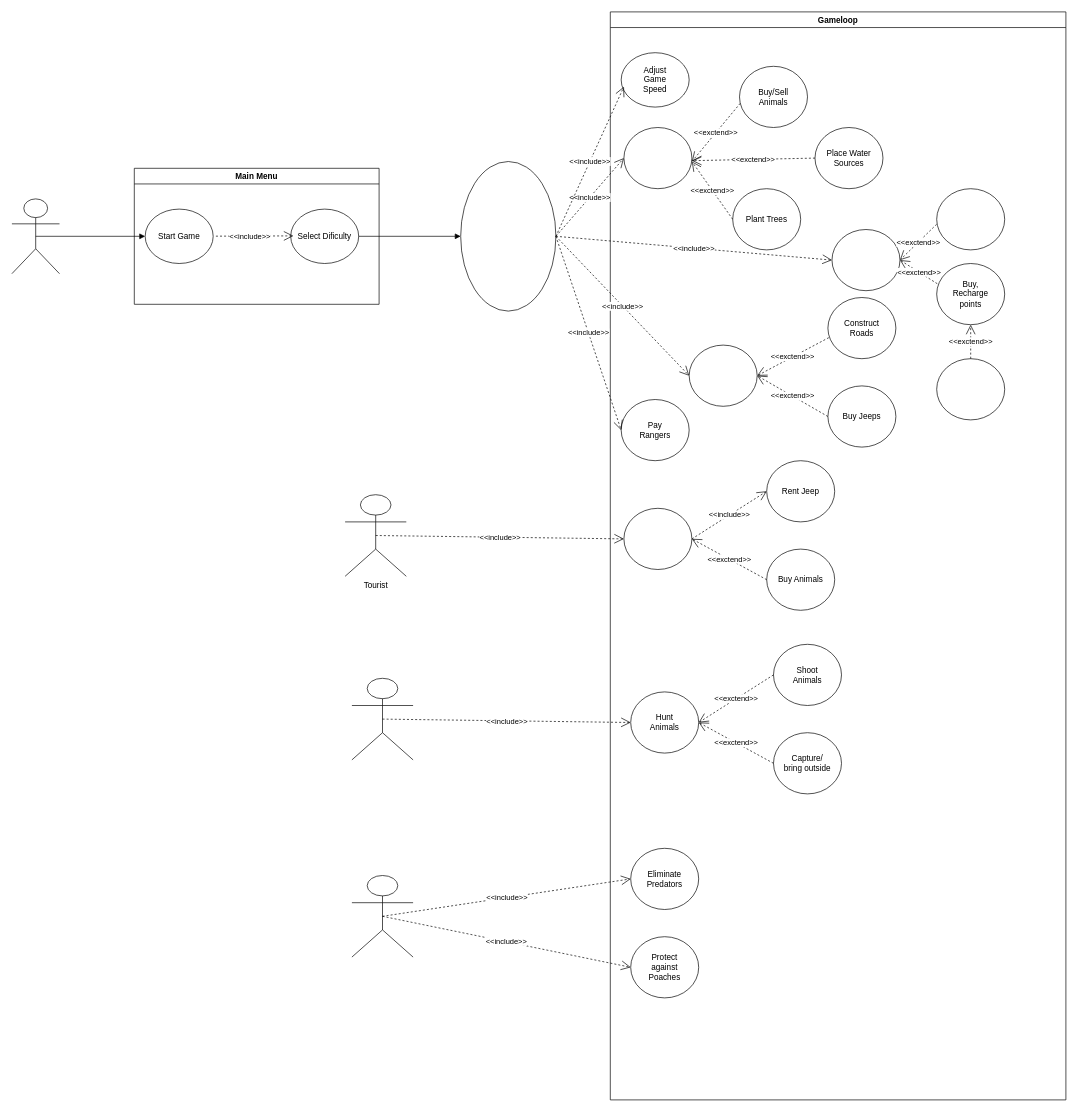
The diagram is 1078 pixels wide and 1112 high, and some of its shapes have lost their labels. Here are the shapes that lost their labels. From the top down, the centre of each, then its label:
At (657,158): "Manage Life/ Water".
At (35,236): "Player".
At (508,236): "Take Action in Game".
At (970,219): "Buy, Cameras, Airships".
At (865,260): "Buy Surveillance System".
At (722,375): "Manage Infustructures".
At (970,389): "Buy Drones".
At (657,539): "Visit Safari".
At (382,719): "Poacher".
At (382,916): "Ranger".
